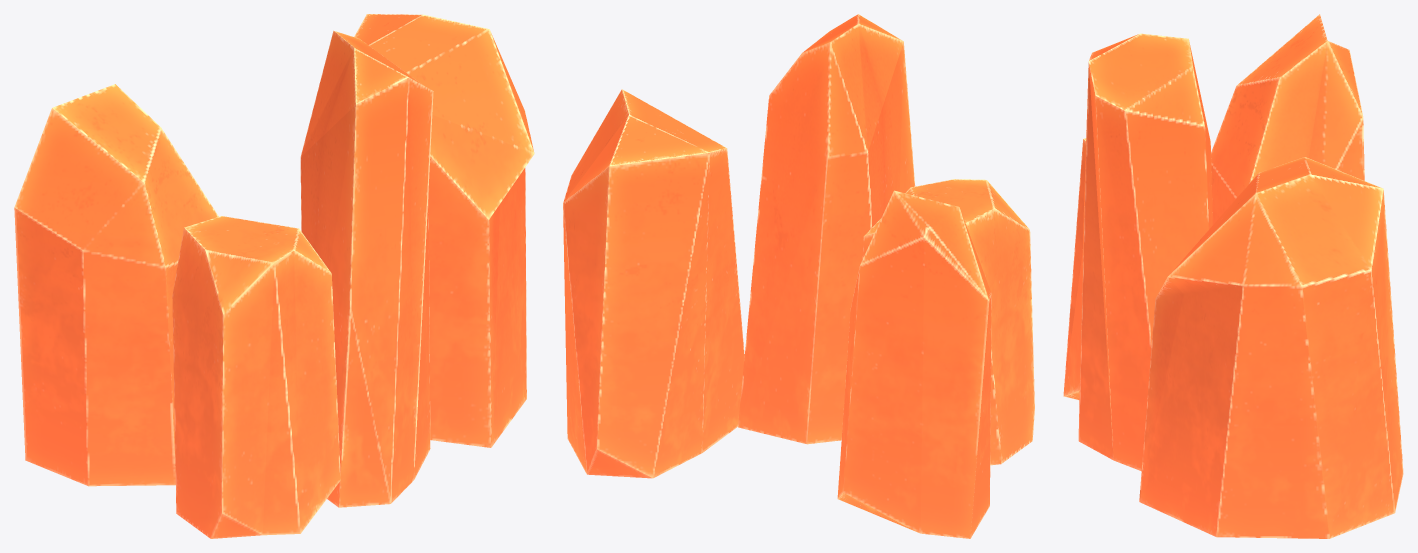
3 views of the same model, side by side, from view 1: azimuth 30°, elevation 25°; view 2: azimuth 150°, elevation 25°; view 3: azimuth 270°, elevation 25° (orthographic). The views are drawn at different scales.
Visible parts, largest first — view 1: 4; view 2: 4; view 3: 4.
Part boxes in pixels (bbox=[...]): 4: bbox=[14, 14, 534, 538]; 4: bbox=[563, 14, 1034, 538]; 4: bbox=[1063, 14, 1403, 538].
Size of the model in its own units: 447 by 394 by 299.
